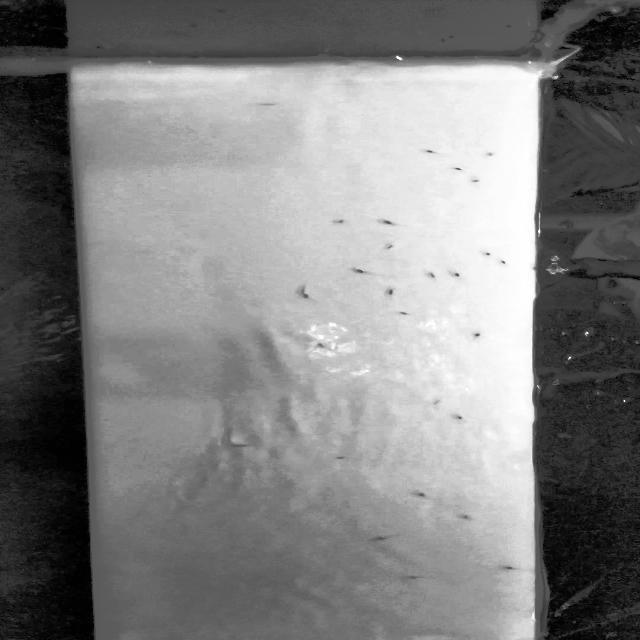shrimp: (291, 281, 320, 299), (347, 264, 373, 278), (423, 266, 442, 282), (365, 530, 392, 541), (494, 561, 521, 572), (394, 308, 423, 318), (429, 394, 452, 406), (408, 572, 433, 582), (446, 268, 464, 280), (492, 257, 512, 267), (455, 513, 477, 522), (446, 412, 467, 421), (406, 488, 426, 497), (375, 242, 397, 250), (381, 287, 398, 297), (421, 148, 445, 155), (447, 164, 467, 172), (328, 455, 354, 461), (469, 176, 490, 182), (382, 218, 394, 228), (474, 249, 493, 255), (332, 218, 348, 225), (473, 328, 482, 340), (483, 151, 496, 158)
